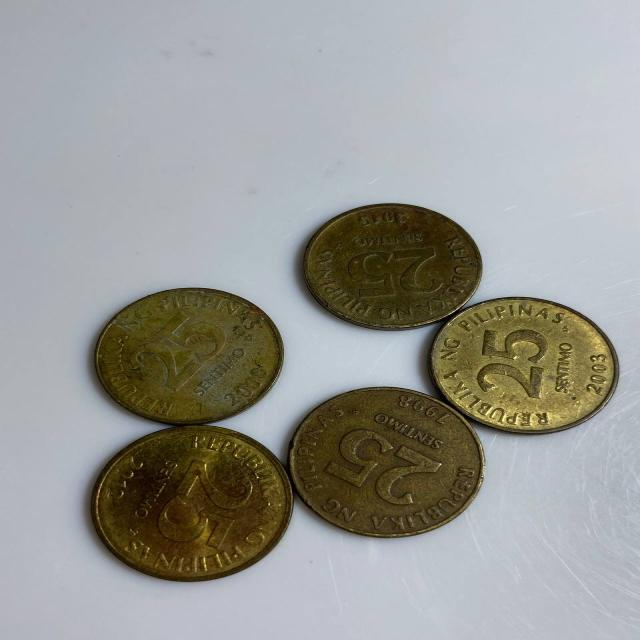25Cent_Old_Front: (327, 428, 438, 510), (154, 458, 258, 545), (132, 312, 229, 393), (474, 326, 554, 400), (342, 250, 453, 297)
